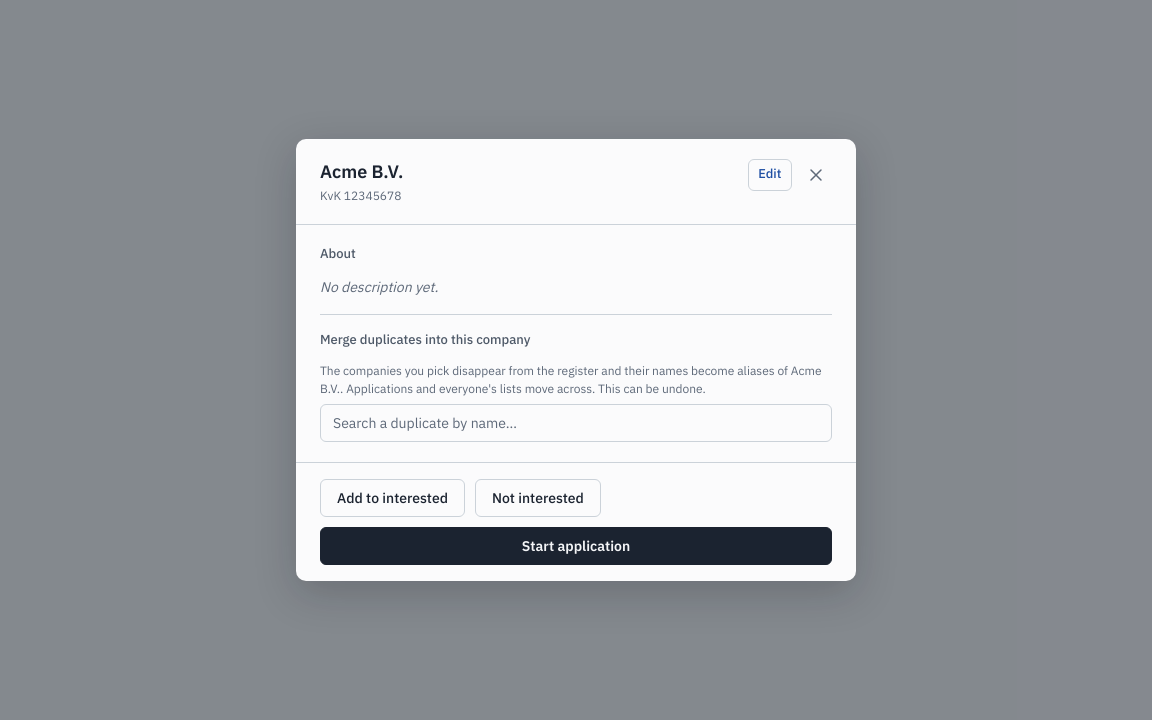
CompanyDetailModal – admin merge › picking a result stages it and clears the search box
The image size is (1152, 720).
In the field with id "ce-merge-search": coordinates (576, 423) [320,404,832,442], type "acme"
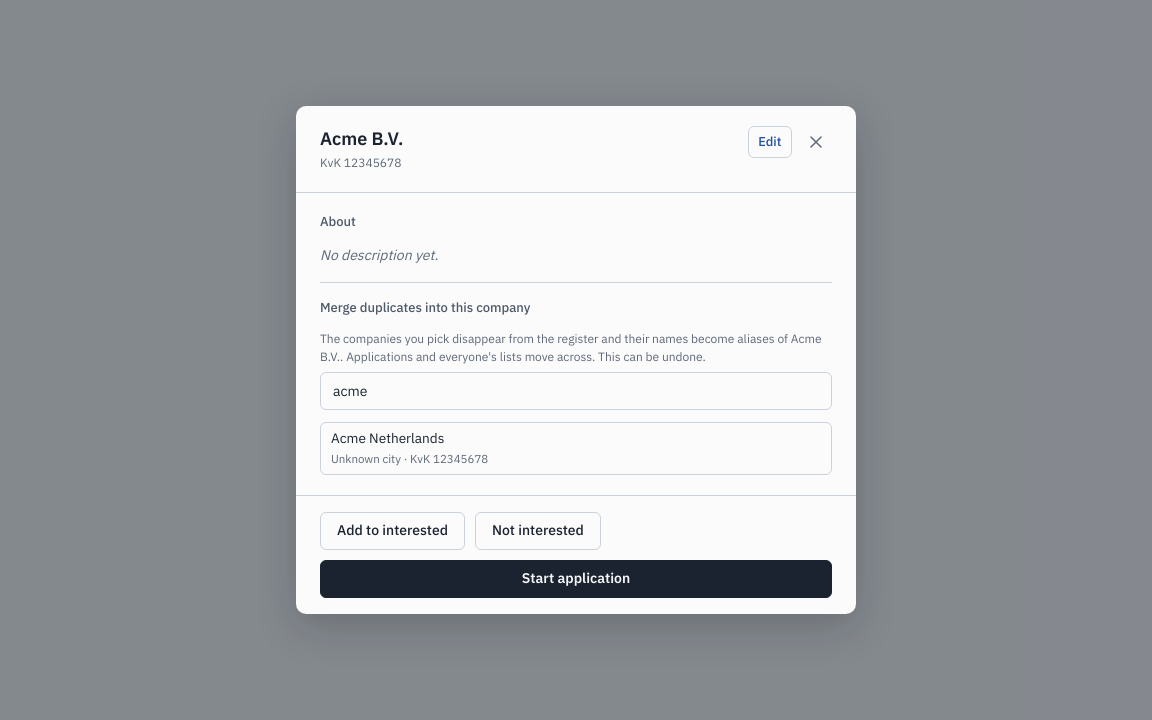
Click the button with class "merge-result": coordinates (388, 438) [320,422,832,475]
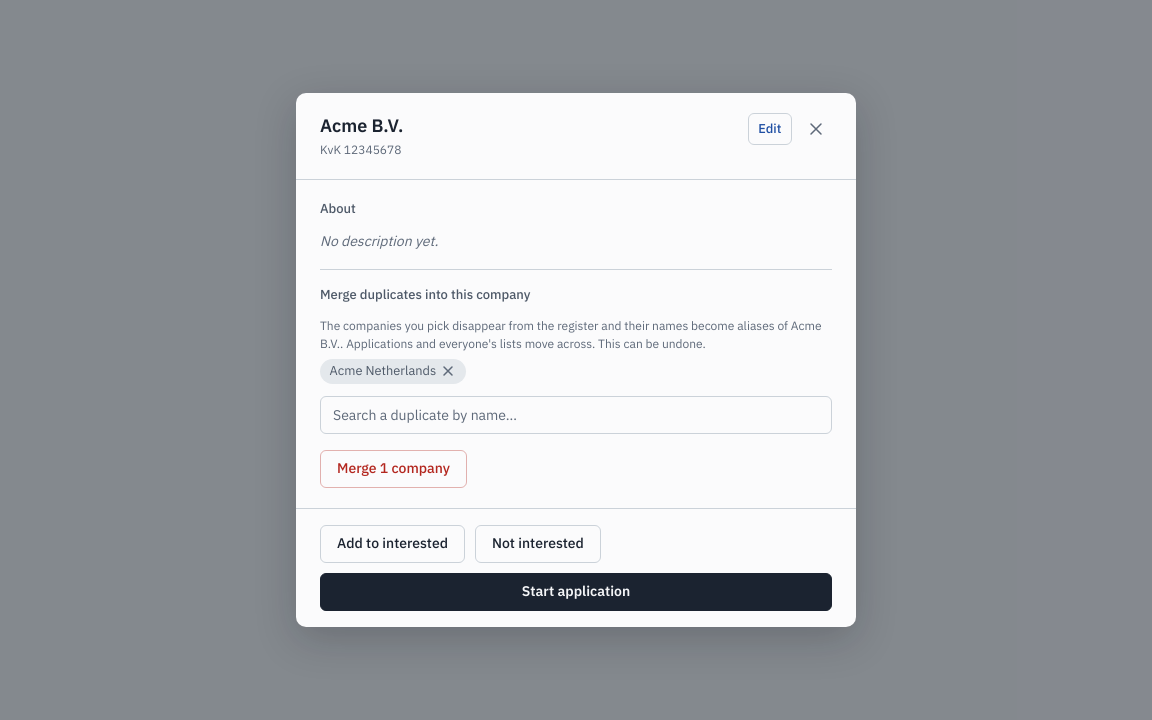
Now the element with class "city-chip" reads "Acme Netherlands", box [330,362,436,379]
Now the field with id "ce-merge-search" is empty, box [320,396,832,434]
